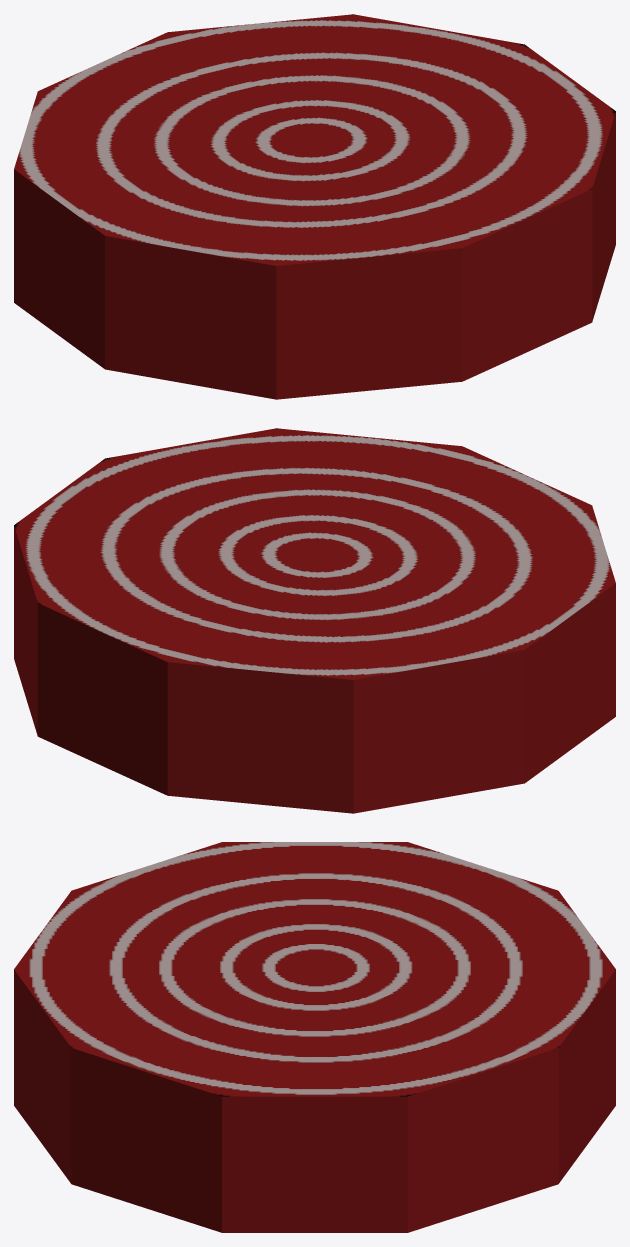
The model's file is carrom_piece_red.glb.
3 views of the same model, one above another, from view 1: azimuth 30°, elevation 25°; view 2: azimuth 150°, elevation 25°; view 3: azimuth 270°, elevation 25° (orthographic). The views are drawn at different scales.
Visible parts, largest first — view 1: Cylinder; view 2: Cylinder; view 3: Cylinder.
Part boxes in pixels (x1,y1,x2,y2): Cylinder: (14,14,615,399); Cylinder: (14,428,615,813); Cylinder: (14,842,615,1232).
Size of the model in its own units: 1 by 0.25 by 1.
1 material, 1 textured.
